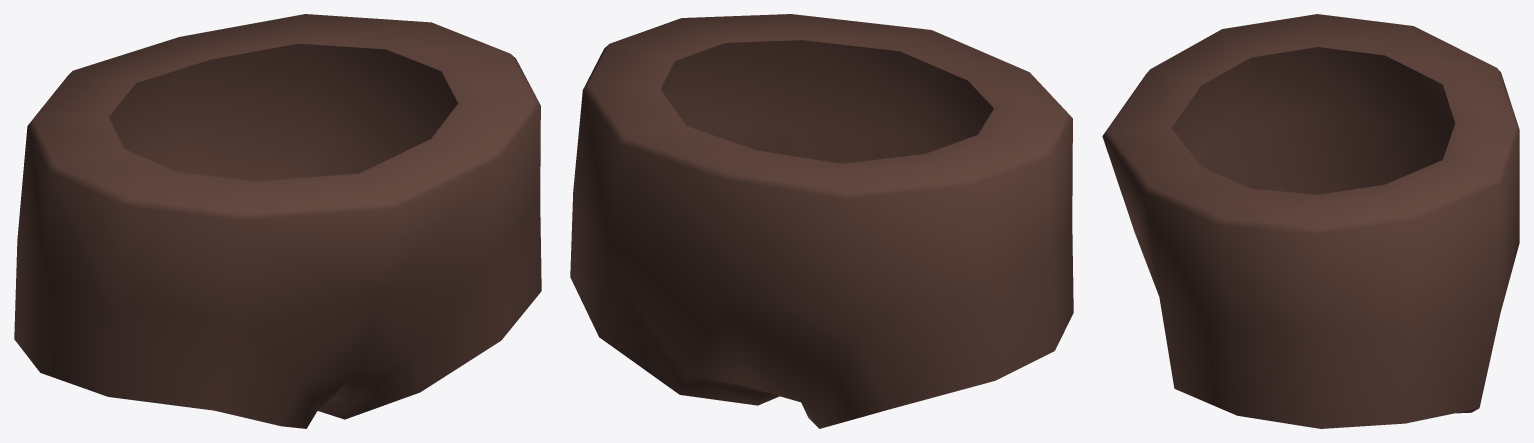
File: Pants_Brown_006.glb
3 views of the same model, side by side, from view 1: azimuth 30°, elevation 25°; view 2: azimuth 150°, elevation 25°; view 3: azimuth 270°, elevation 25° (orthographic). The views are drawn at different scales.
Parts seen in each view (by area): view 1: Pants_Brown_006; view 2: Pants_Brown_006; view 3: Pants_Brown_006.
Part boxes in pixels (box(x1,y1,x2,y2)): Pants_Brown_006: box(14, 14, 541, 428); Pants_Brown_006: box(570, 14, 1073, 428); Pants_Brown_006: box(1102, 14, 1519, 428).
Size of the model in its own units: 0.4529 by 0.2677 by 0.3561.
Materials: 1 (1 with a texture image).
